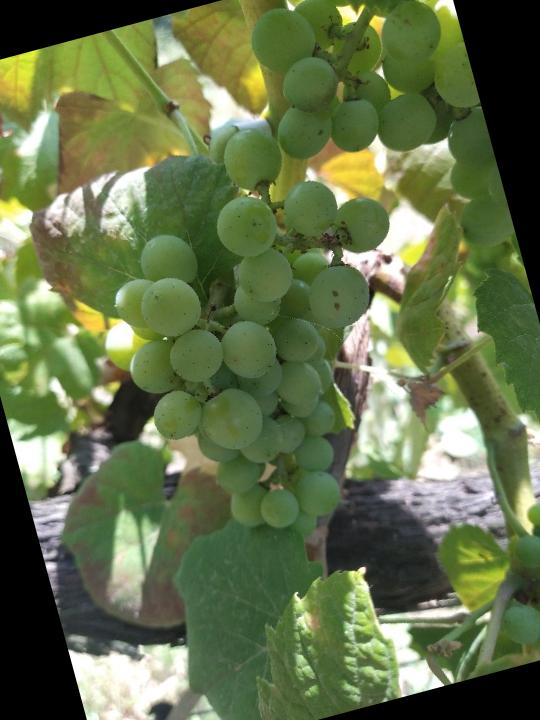grape: (58, 94, 466, 577)
